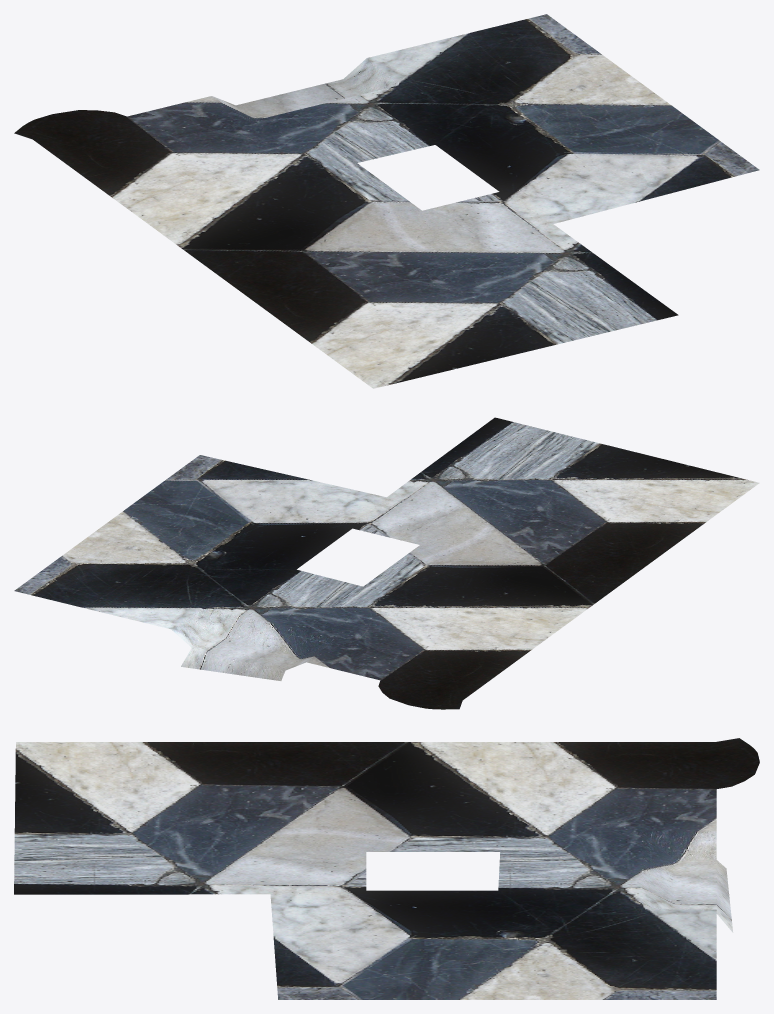
The model's file is shadow plane.fbx.
3 renders of one model, top to bottom at view 1: azimuth 30°, elevation 25°; view 2: azimuth 150°, elevation 25°; view 3: azimuth 270°, elevation 25°, orthographic. The views are drawn at different scales.
Parts seen in each view (by area): view 1: shadow plane; view 2: shadow plane; view 3: shadow plane.
Boxes of the visible parts, bbox=[...] form: shadow plane: bbox=[14, 14, 759, 388]; shadow plane: bbox=[14, 417, 759, 709]; shadow plane: bbox=[14, 738, 759, 999].
Bounding box in the file's own units: 4047 × 239 × 4871.
